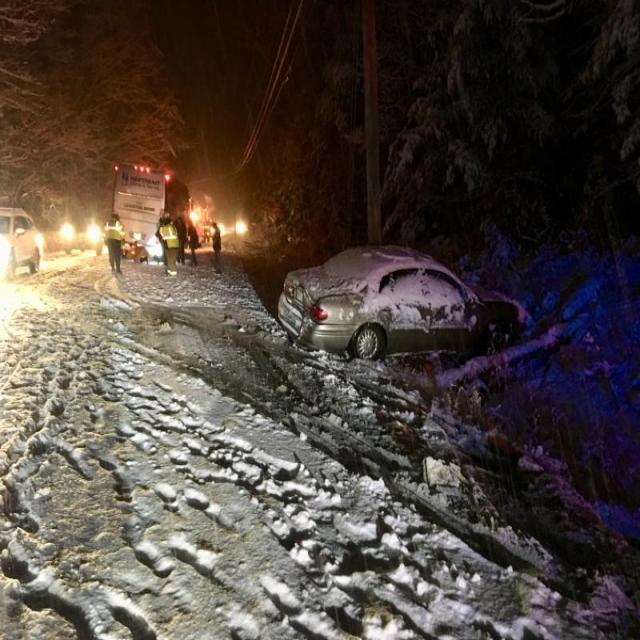Accident: (270, 249, 534, 375)
